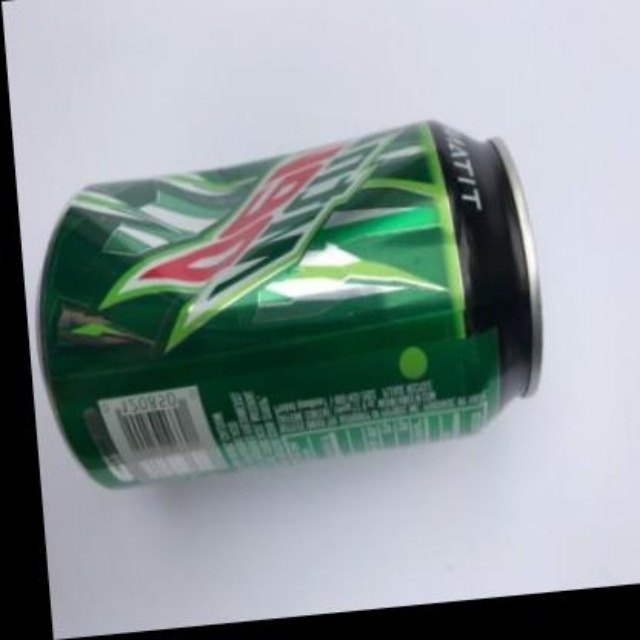trash: (40, 123, 540, 485)
